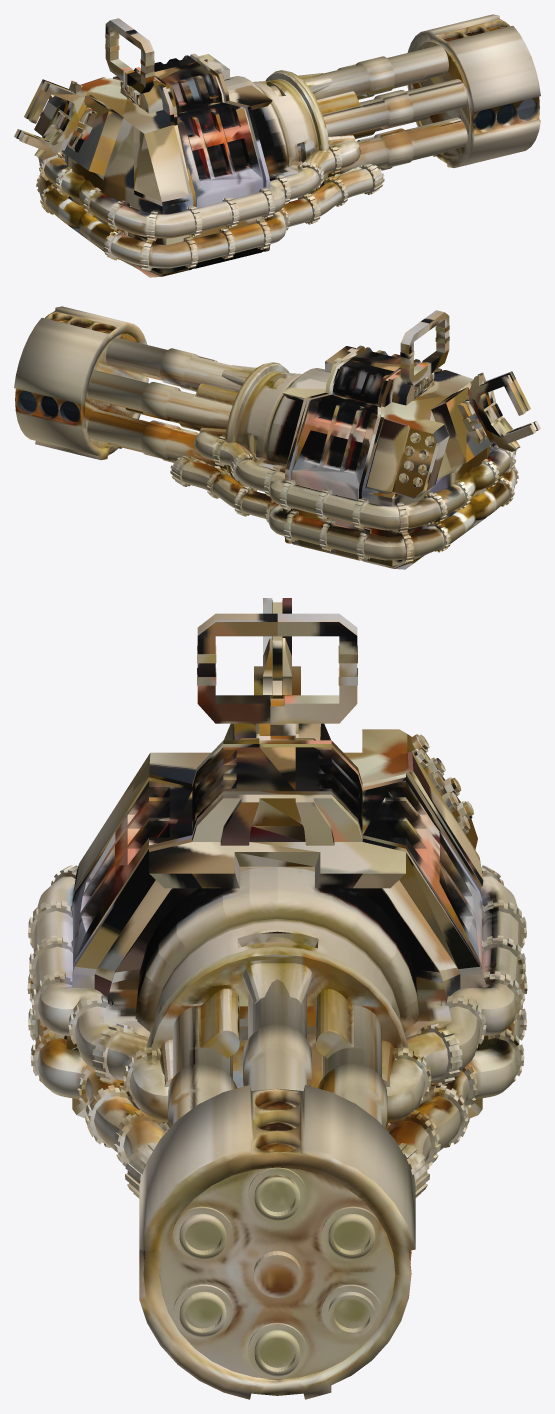
The model's file is mvadapter.glb.
The picture shows the model from 3 angles, top to bottom: view 1: azimuth 30°, elevation 25°; view 2: azimuth 150°, elevation 25°; view 3: azimuth 270°, elevation 25°; orthographic projection. The views are drawn at different scales.
Visible parts, largest first — view 1: geometry_0; view 2: geometry_0; view 3: geometry_0.
Boxes of the visible parts, x1,y1,x2,y2 form: geometry_0: (14, 14, 540, 277); geometry_0: (14, 306, 540, 569); geometry_0: (27, 598, 527, 1399).
Bounding box in the file's own units: 9.25 × 3.91 × 4.07.
1 material, 1 textured.
